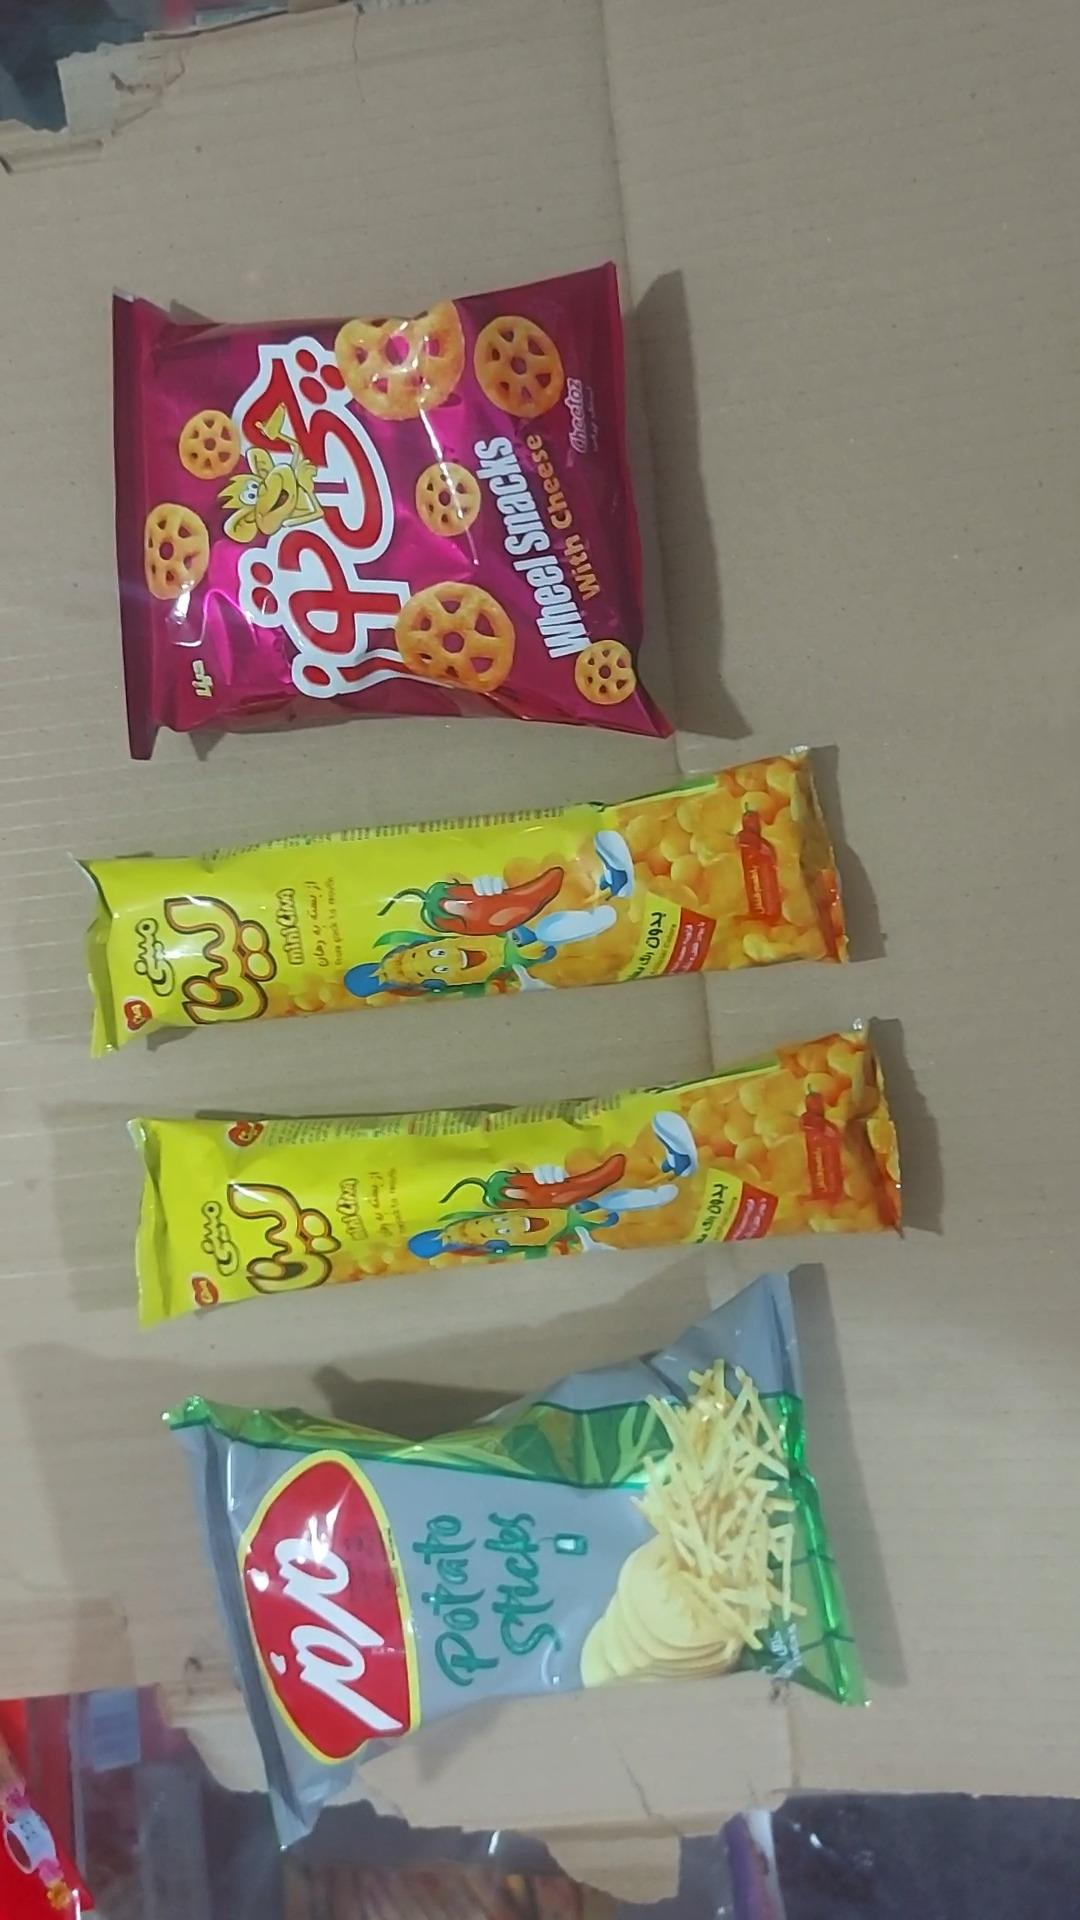Cheetoz wheelsnack: (113, 264, 669, 760)
Maz Maz potato sticks: (170, 1276, 862, 1840)
Mini Lina: (80, 752, 848, 1054), (131, 1029, 901, 1323)
